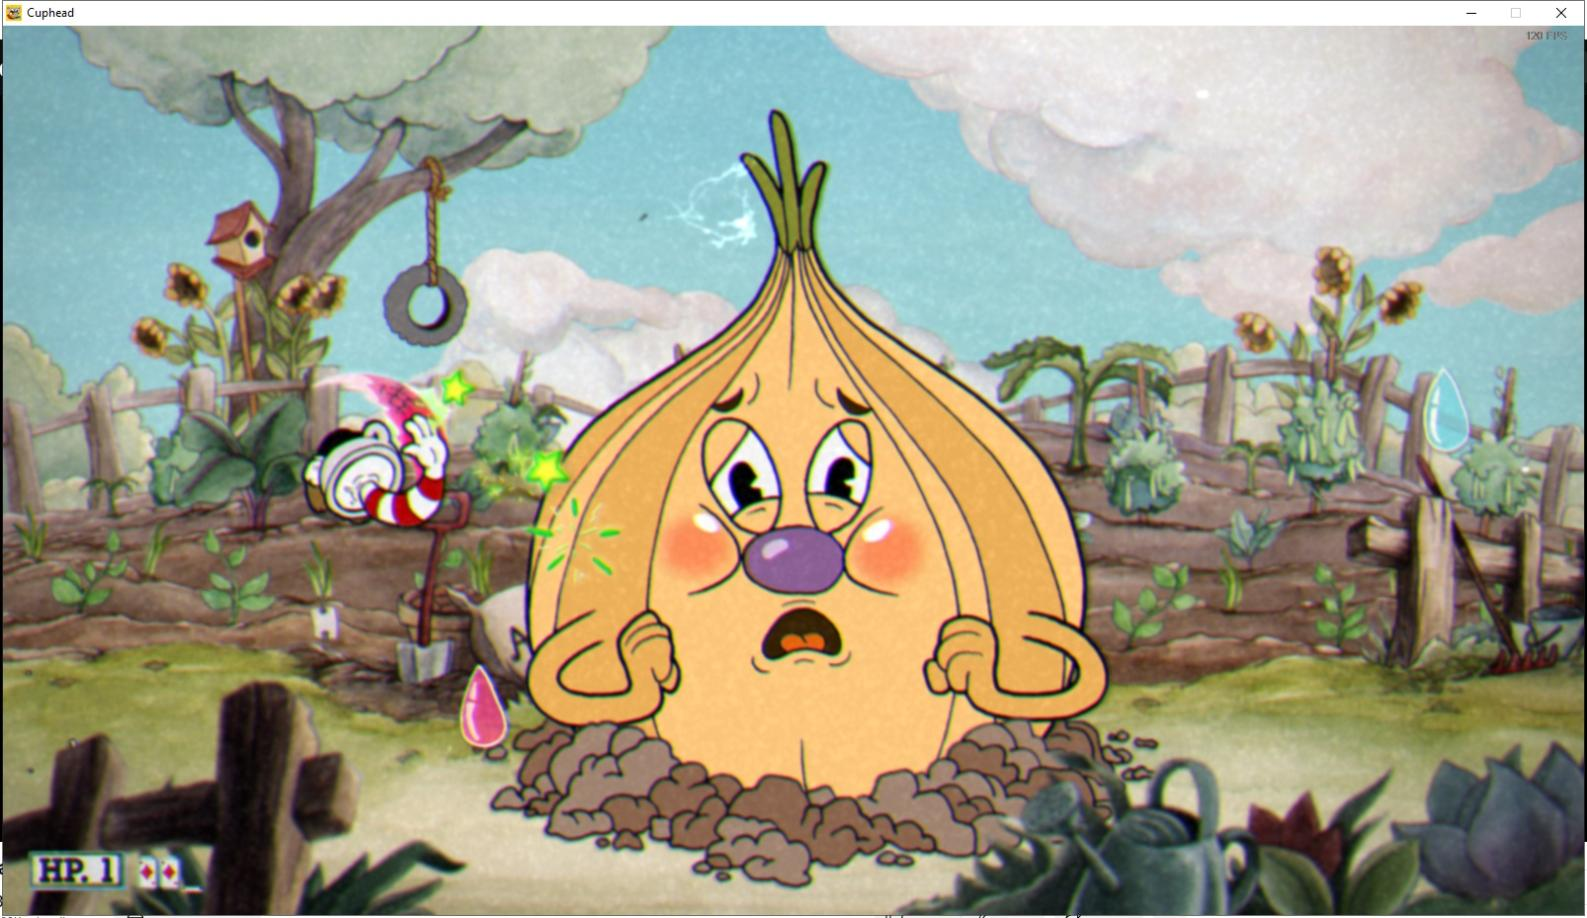hp1: (92, 853, 124, 890)
onion_boss: (514, 95, 1114, 837)
pink_rain: (446, 658, 517, 755)
player: (290, 363, 461, 542)
rain: (1418, 360, 1476, 459)
